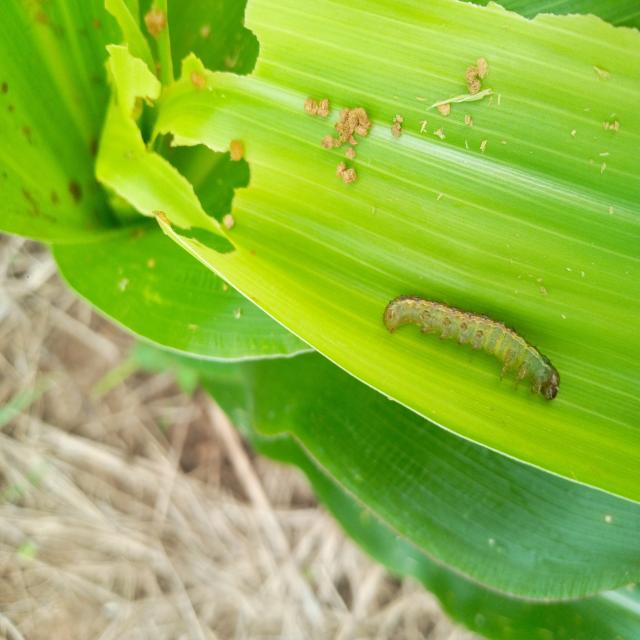yellow-stem-borer-larva: (370, 281, 582, 421)
